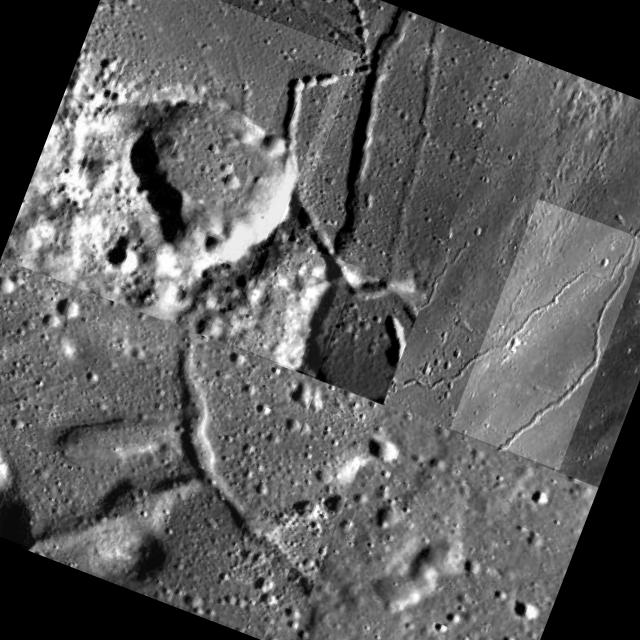rille: (0, 258, 381, 640), (383, 53, 640, 485), (190, 58, 487, 404), (233, 0, 450, 377), (288, 0, 494, 284), (449, 199, 640, 471), (115, 0, 382, 55)
